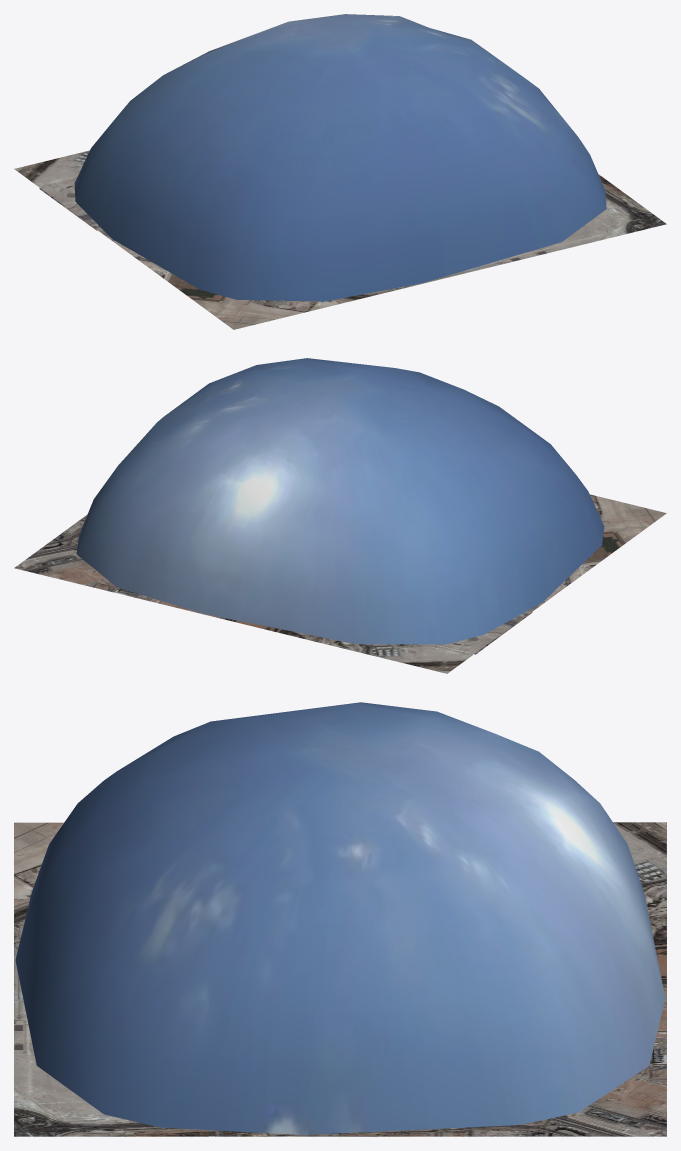
The model's file is dxb-airport.glb.
3 renders of one model, top to bottom at view 1: azimuth 30°, elevation 25°; view 2: azimuth 150°, elevation 25°; view 3: azimuth 270°, elevation 25°, orthographic. The views are drawn at different scales.
Visible parts, largest first — view 1: sphere_sky_sphere_sky_0, landscape_landscape_0; view 2: sphere_sky_sphere_sky_0, landscape_landscape_0; view 3: sphere_sky_sphere_sky_0, landscape_landscape_0.
Part boxes in pixels (x1,y1,x2,y2): sphere_sky_sphere_sky_0: (74, 14, 606, 301); landscape_landscape_0: (14, 150, 666, 329); sphere_sky_sphere_sky_0: (76, 358, 604, 644); landscape_landscape_0: (14, 494, 666, 673); sphere_sky_sphere_sky_0: (15, 702, 665, 1134); landscape_landscape_0: (14, 822, 666, 1136).
Size of the model in its own units: 2615 by 899 by 2288.
Materials: 14 (9 with a texture image).
